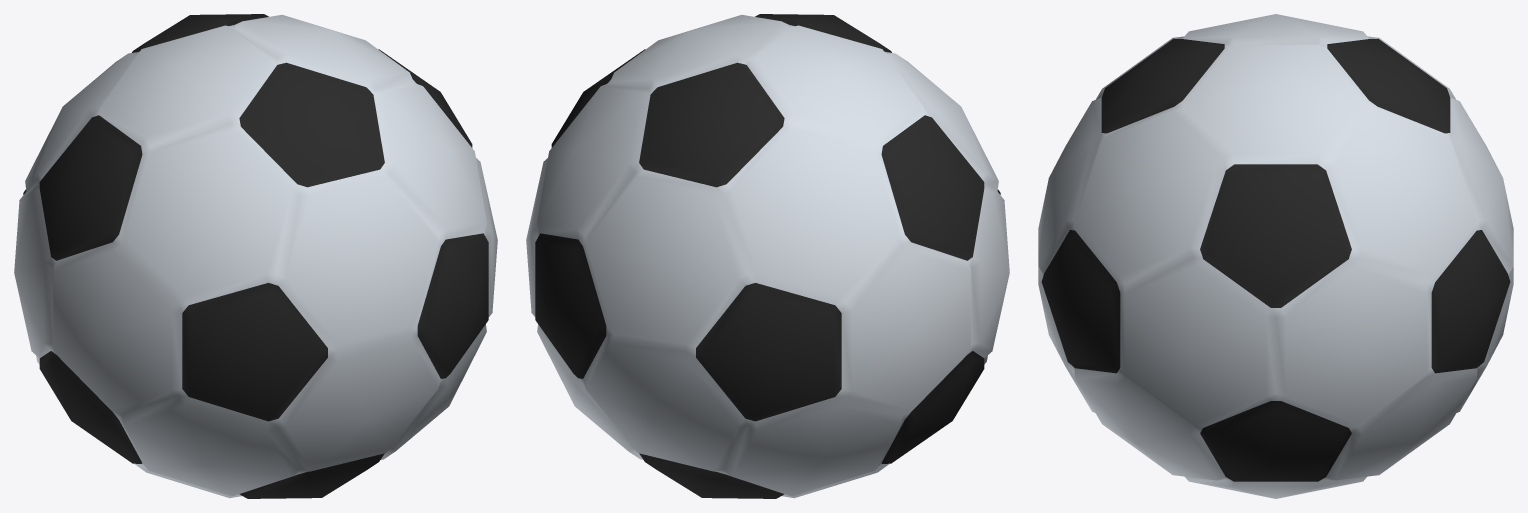
Rendered from PP_Ball2.fbx.
3 views of the same model, side by side, from view 1: azimuth 30°, elevation 25°; view 2: azimuth 150°, elevation 25°; view 3: azimuth 270°, elevation 25° (orthographic).
Visible parts, largest first — view 1: ball_2; view 2: ball_2; view 3: ball_2.
Part boxes in pixels (x1,y1,x2,y2): ball_2: [14, 14, 497, 498]; ball_2: [526, 14, 1009, 498]; ball_2: [1038, 14, 1513, 498].
Bounding box in the file's own units: 22.47 × 22.47 × 22.47.
